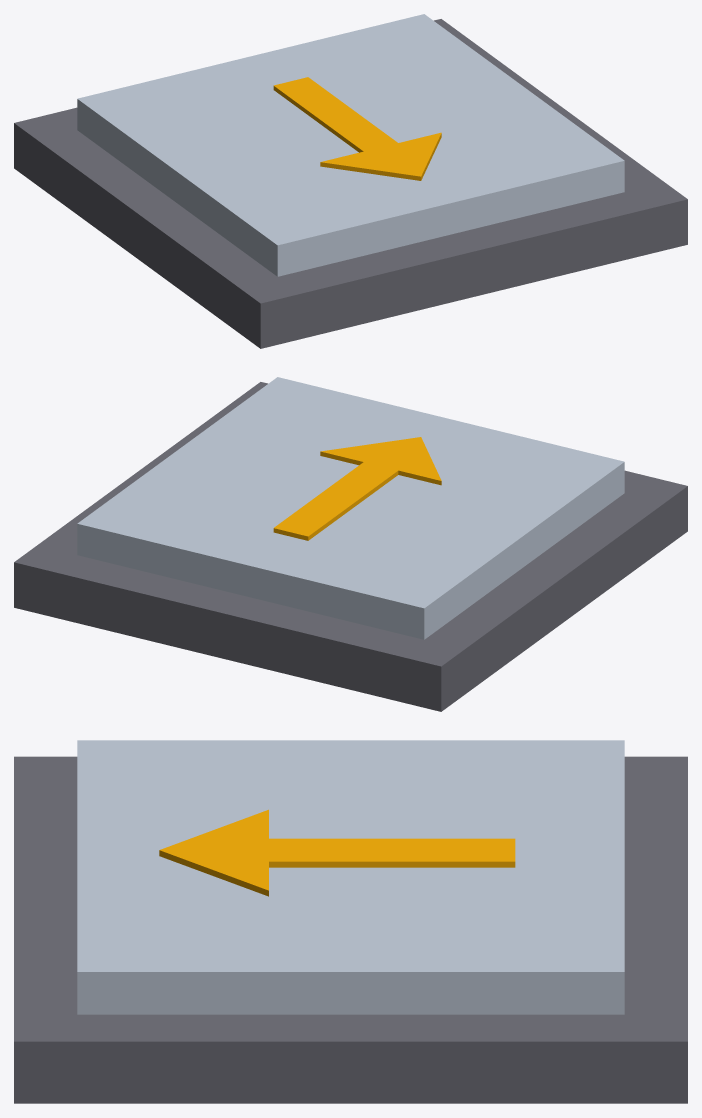
3 renders of one model, top to bottom at view 1: azimuth 30°, elevation 25°; view 2: azimuth 150°, elevation 25°; view 3: azimuth 270°, elevation 25°, orthographic. The views are drawn at different scales.
Parts seen in each view (by area): view 1: frame, bumpers, front; view 2: frame, bumpers, front; view 3: frame, bumpers, front.
Part boxes in pixels (x1,y1,x2,y2): frame: (77,14,624,276); bumpers: (14,19,687,348); front: (273,77,441,180); frame: (77,377,624,639); bumpers: (14,382,687,711); front: (273,437,441,540); frame: (77,740,624,1014); bumpers: (14,756,687,1103); front: (159,809,515,896).
Size of the model in its own units: 0.8128 by 0.2212 by 0.8128.
